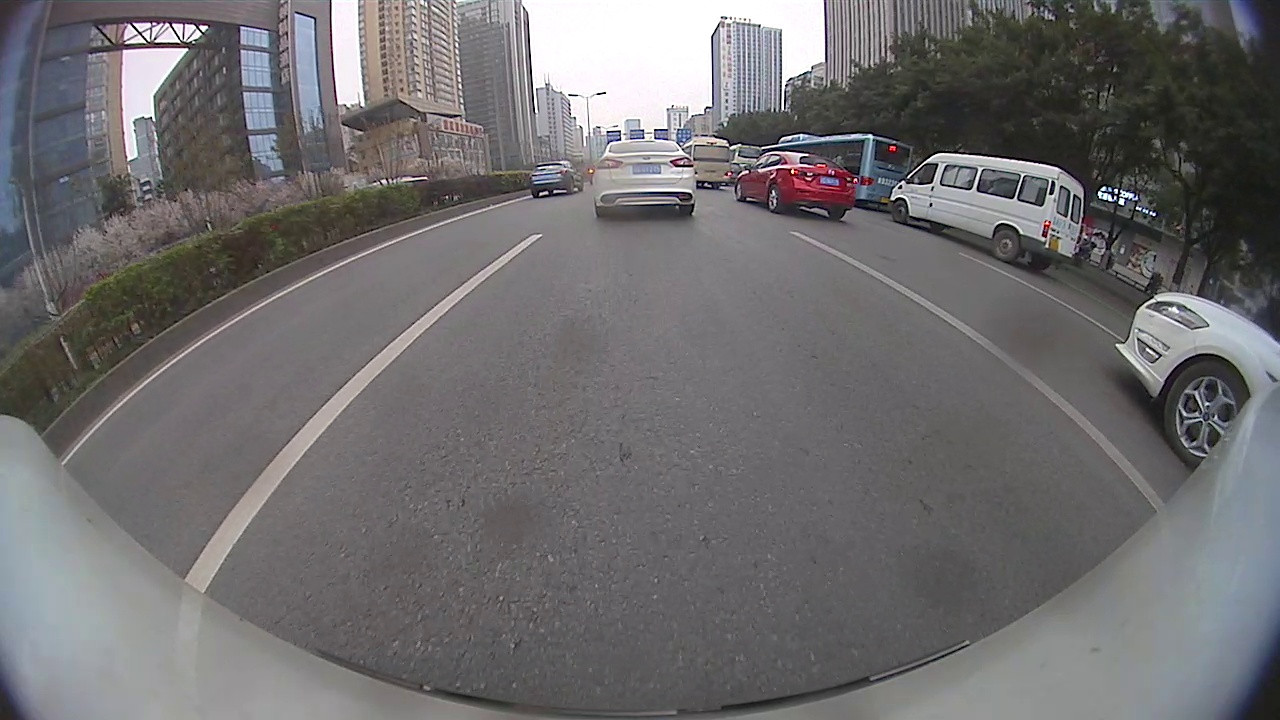bus: (886, 152, 1087, 264), (761, 132, 914, 212), (684, 136, 733, 189)
car: (1110, 289, 1279, 464), (736, 152, 856, 220), (595, 140, 697, 216), (528, 160, 580, 197)
front: (1157, 355, 1250, 469), (888, 199, 910, 226), (737, 180, 746, 203)
rear: (989, 229, 1021, 263), (763, 182, 782, 215)
